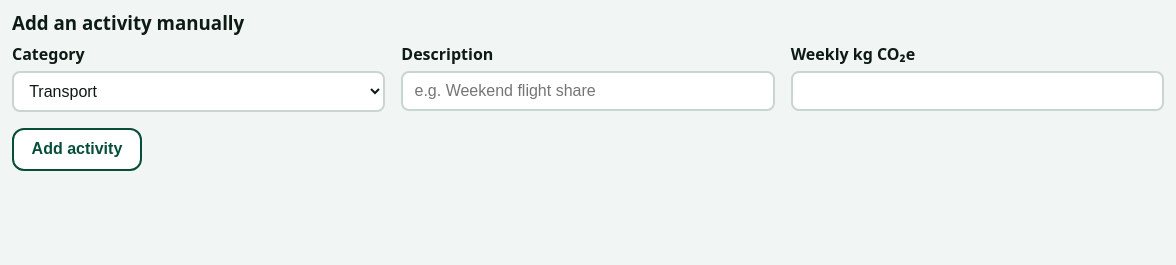
Test: AddActivityForm › rejects an empty activity
Select "Waste" in the dropdown labelled "Category" at (199, 92), box [12, 71, 385, 112]
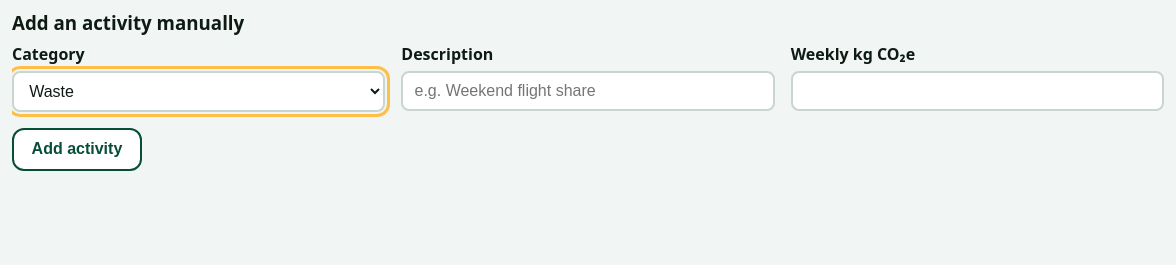
Type "5" into the number field labelled "Weekly kg CO₂e" at (977, 91), box [791, 71, 1164, 111]
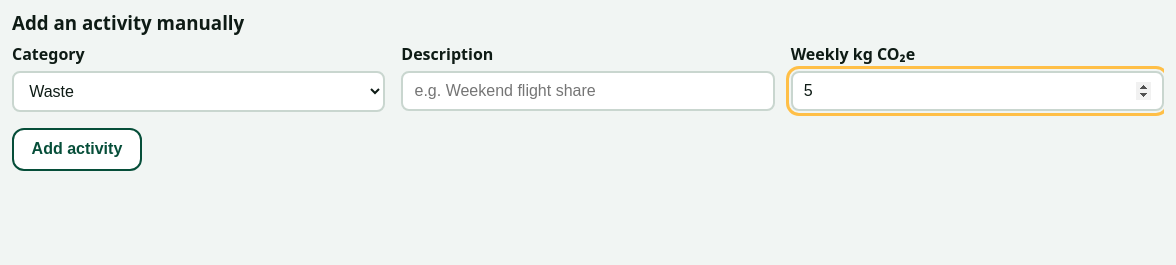
Click the button "Add activity" at (77, 149), box [12, 128, 142, 171]
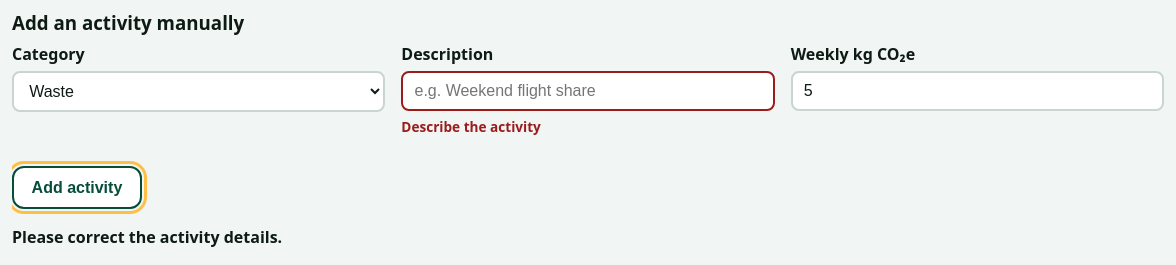
Expected: the text "Please correct the activity details." is shown, [12, 226, 282, 248]
